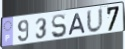3: (35, 17, 49, 40)
7: (106, 5, 121, 33)
9: (16, 19, 30, 43)
A: (68, 12, 87, 37)
S: (51, 13, 68, 39)
U: (86, 7, 105, 35)
